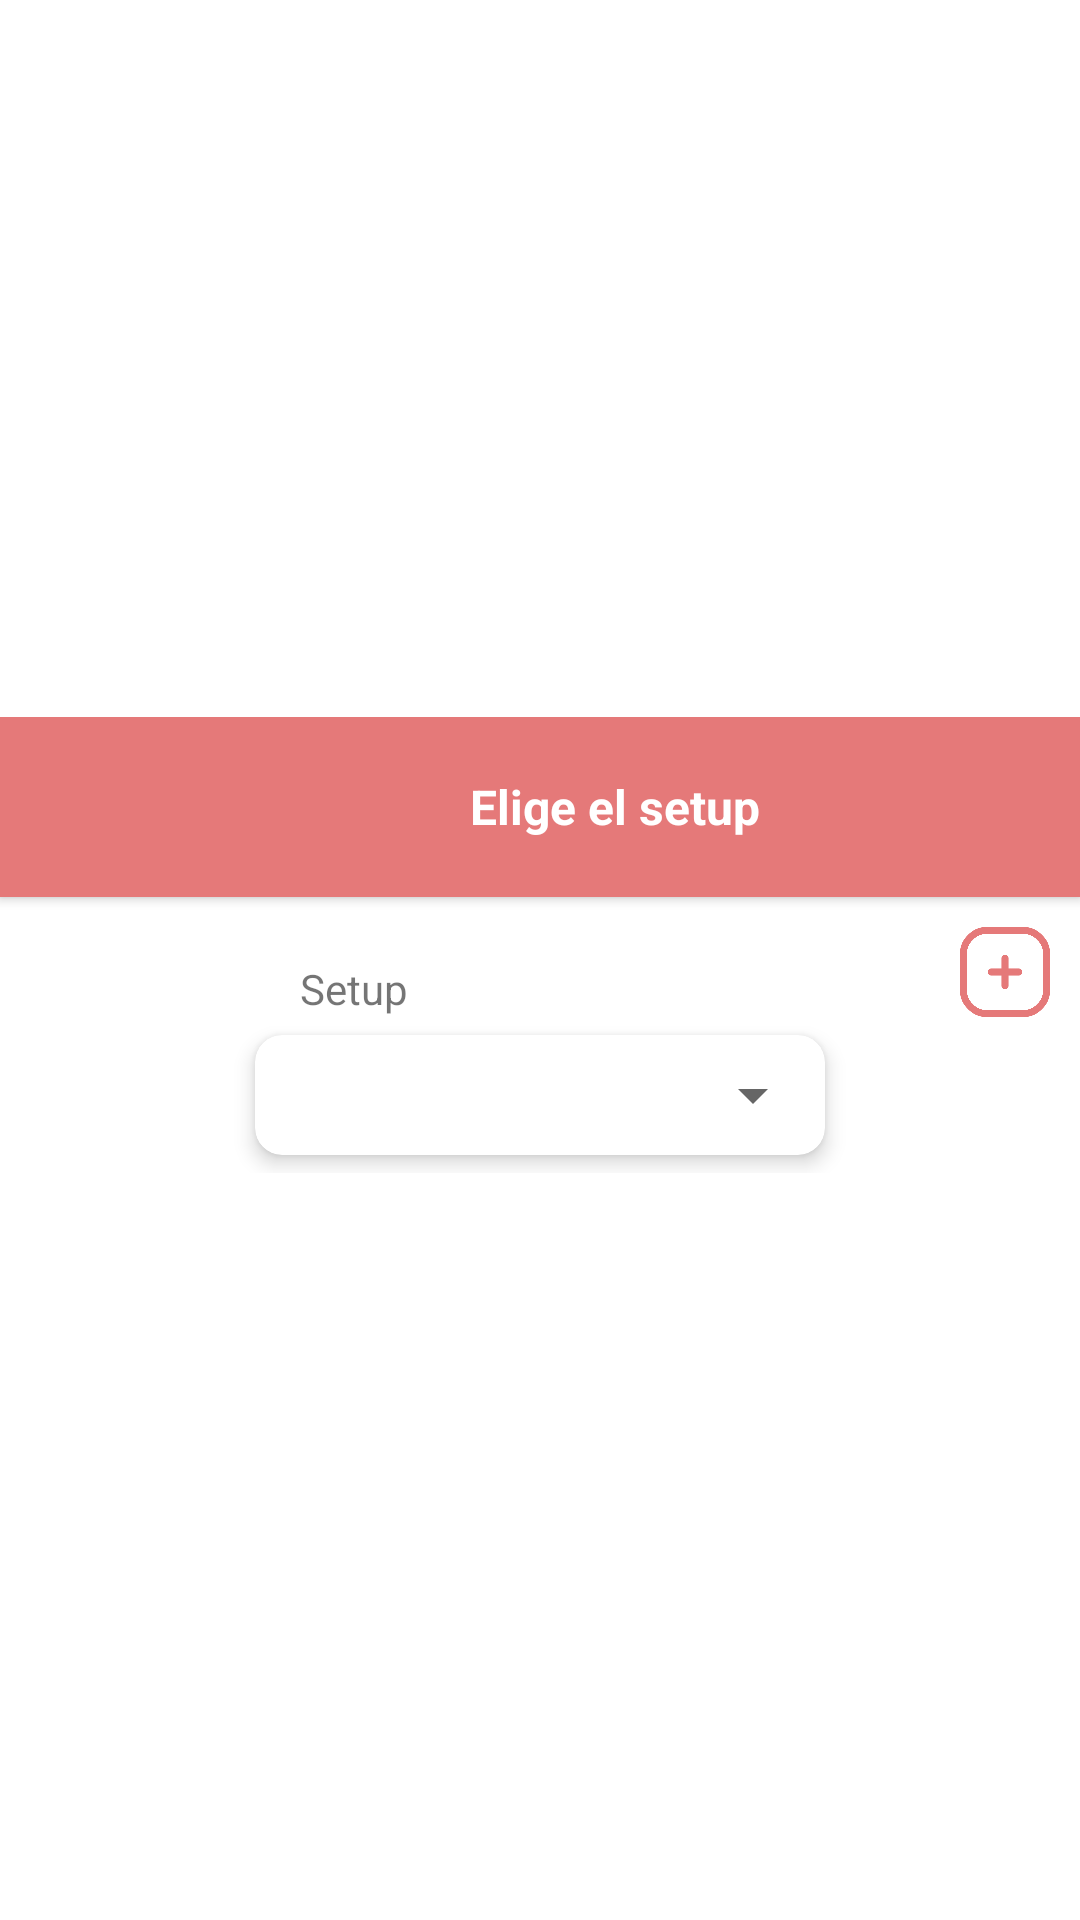

Where to tap for icons on this 1080 × 1920 app screen, as point (x, y):
plus: point (1005, 972)
